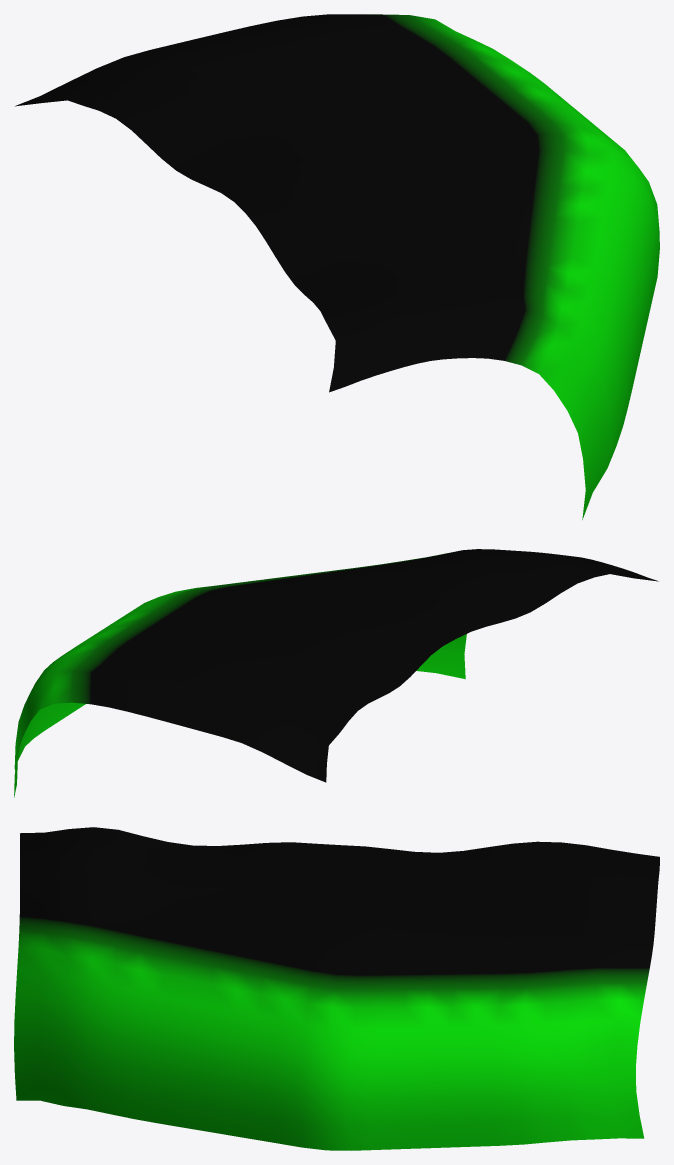
File: SM_UpperFoam_01.fbx
3 views of the same model, one above another, from view 1: azimuth 30°, elevation 25°; view 2: azimuth 150°, elevation 25°; view 3: azimuth 270°, elevation 25° (orthographic). The views are drawn at different scales.
Visible parts, largest first — view 1: SM_UpperFoam_01; view 2: SM_UpperFoam_01; view 3: SM_UpperFoam_01.
Part boxes in pixels (x1,y1,x2,y2): SM_UpperFoam_01: [15, 14, 659, 519]; SM_UpperFoam_01: [14, 549, 658, 797]; SM_UpperFoam_01: [14, 827, 659, 1150].
Bounding box in the file's own units: 369 × 156 × 466.
